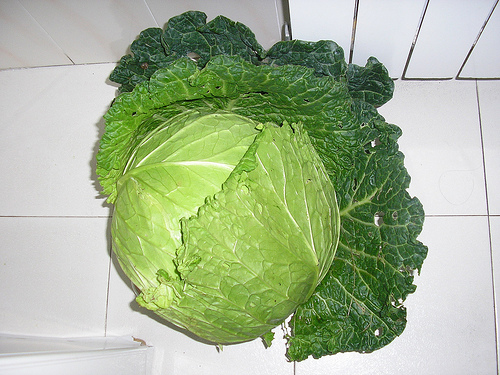cabbage: (91, 9, 431, 364)
